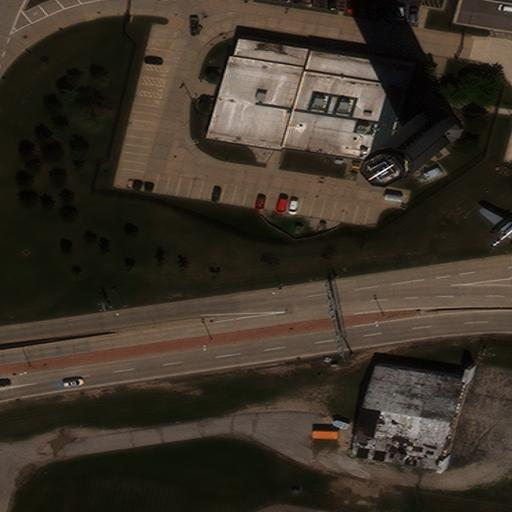Military Transport: (478, 209, 511, 250)
